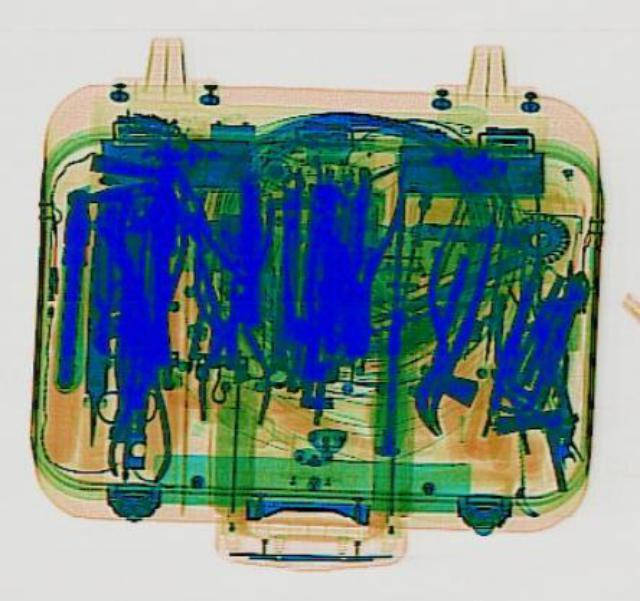Pliers: (196, 278, 274, 423)
